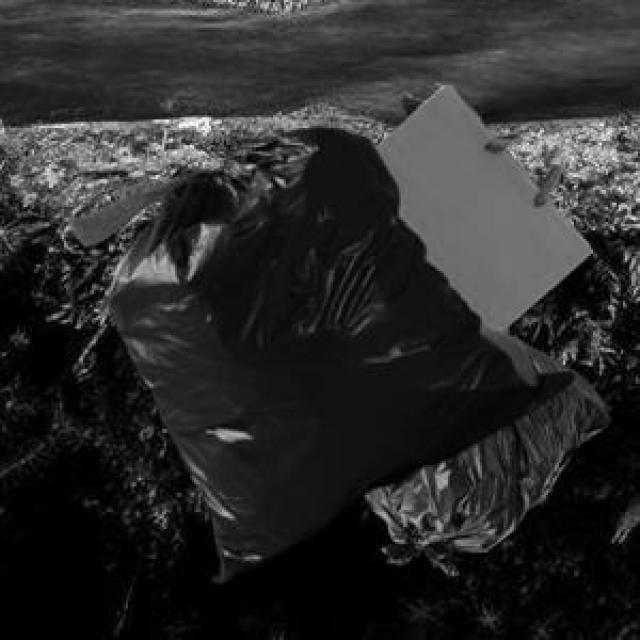miscellaneous trash: (66, 124, 570, 578), (361, 318, 608, 572)
paper: (369, 81, 587, 326)
